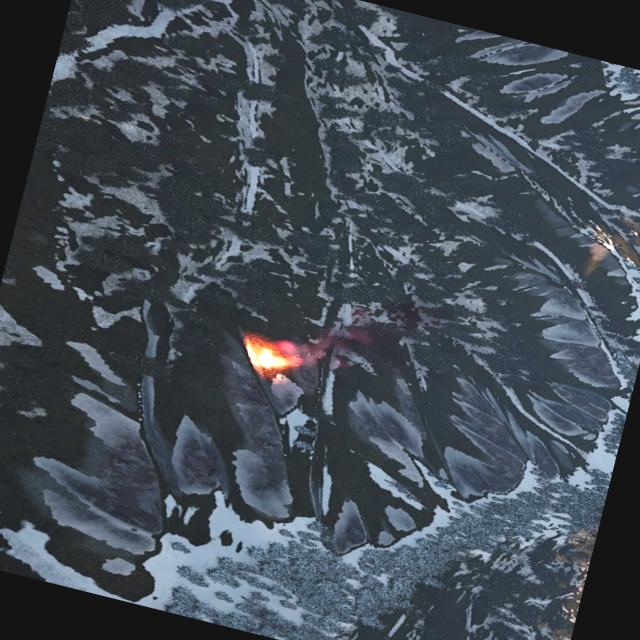fire: (240, 331, 302, 378)
smoke: (276, 279, 429, 395)
